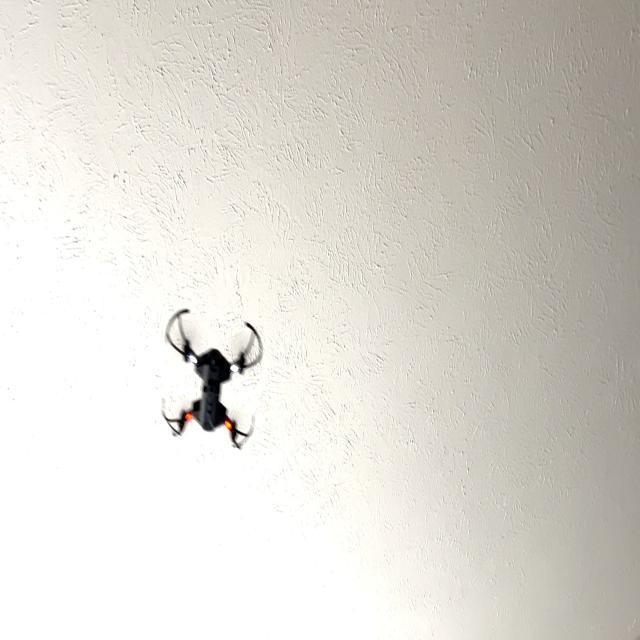drone: (149, 286, 274, 467)
